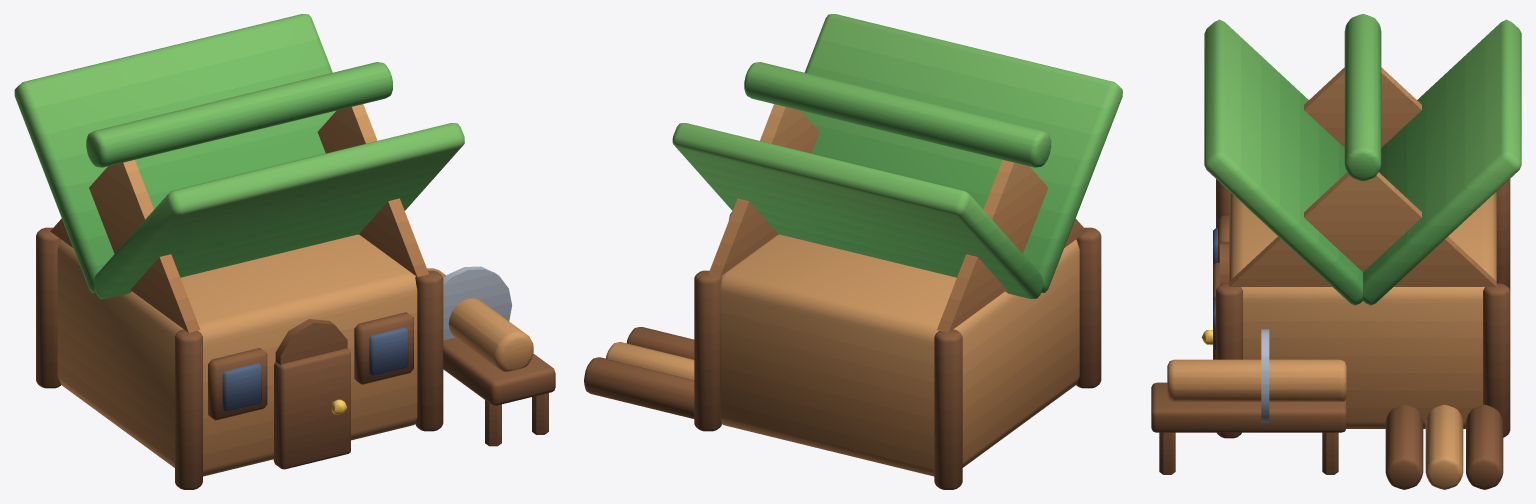
File: millG.glb
The picture shows the model from 3 angles, left to right: view 1: azimuth 30°, elevation 25°; view 2: azimuth 150°, elevation 25°; view 3: azimuth 270°, elevation 25°; orthographic projection. The views are drawn at different scales.
Visible parts, largest first — view 1: millG; view 2: millG; view 3: millG.
Part boxes in pixels (x1=…): millG: x1=14, y1=14, x2=555, y2=489; millG: x1=584, y1=14, x2=1122, y2=489; millG: x1=1151, y1=14, x2=1521, y2=489.
Bounding box in the file's own units: 1.33 × 1.01 × 1.14.
Materials: 1 (1 with a texture image).
